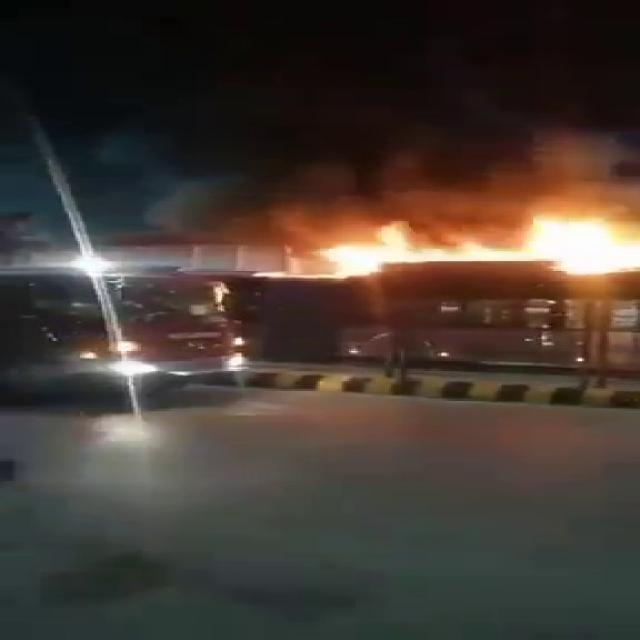Fire: (236, 220, 640, 277)
